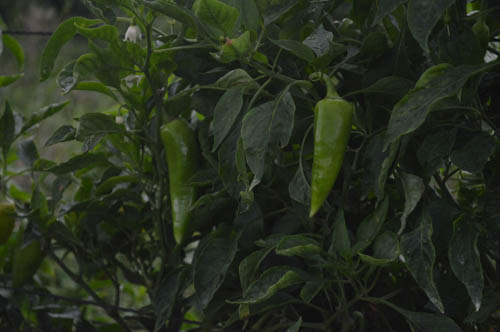ChiliPepper: (311, 100, 354, 214), (163, 120, 197, 240)
